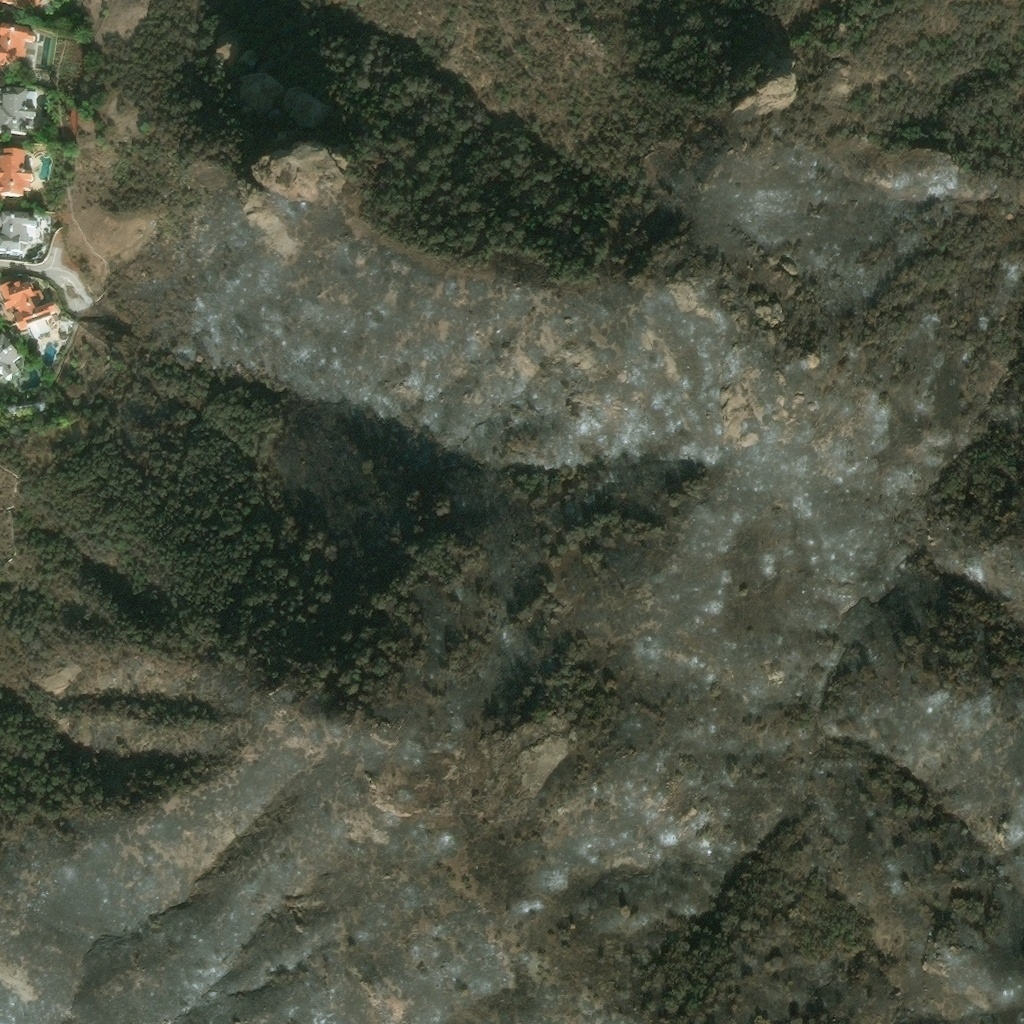0 no-damage: (0, 280, 59, 335), (0, 89, 50, 139), (0, 214, 44, 261), (0, 25, 36, 78), (0, 152, 33, 205), (0, 334, 21, 387), (0, 0, 48, 16), (63, 110, 77, 137), (35, 402, 46, 413), (8, 405, 17, 415)
